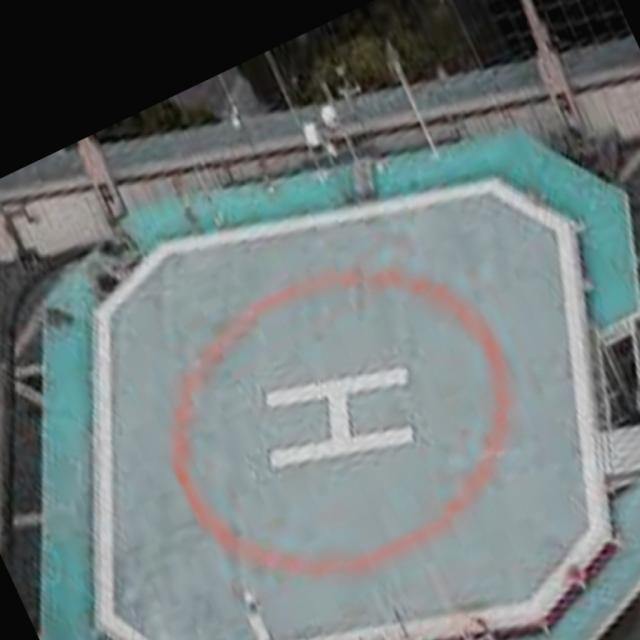helipad: (157, 266, 515, 580)
